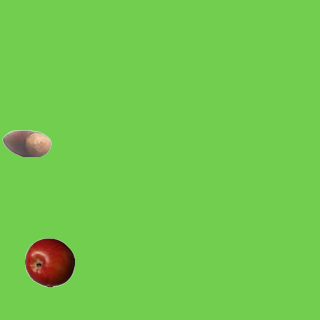Apple Braeburn: (24, 237, 74, 287)
Hazelnut: (1, 118, 51, 168)
